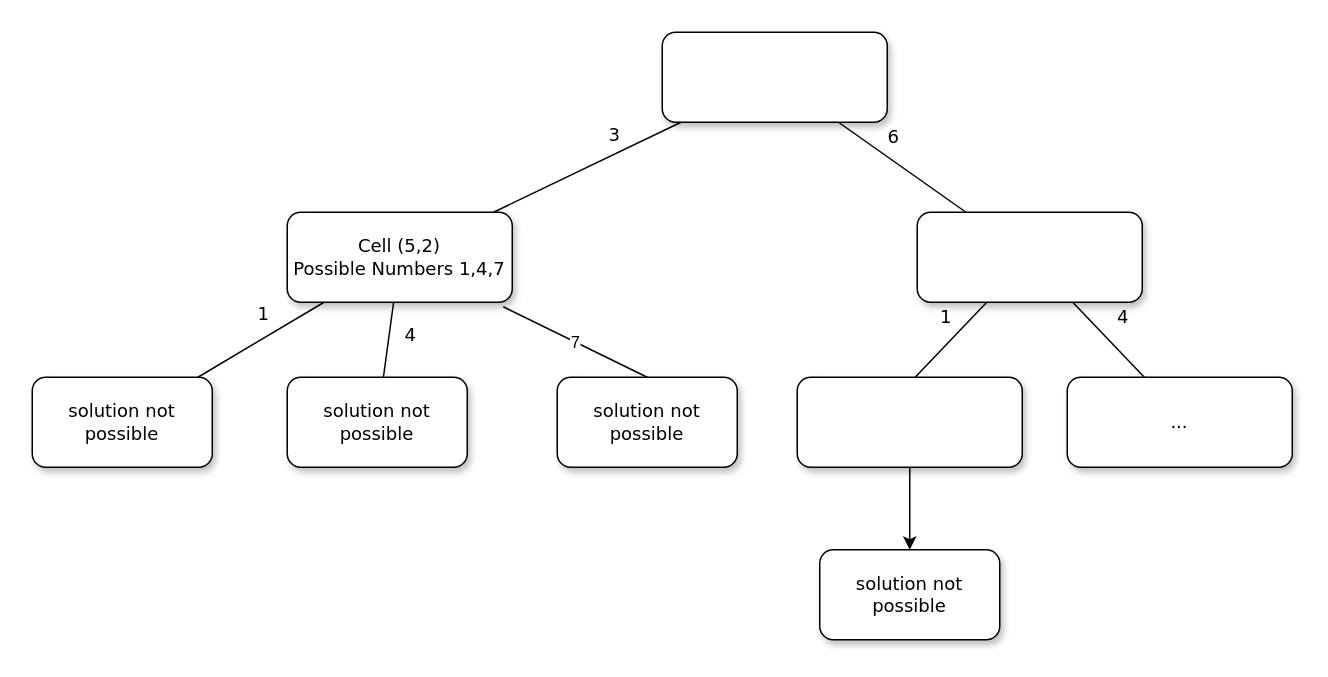
Some shapes in this 1328 by 677 pixel diagram are drawn without their labels. Here are the shapes that lost their labels. From the top down, the centre of each, then its label:
the point at 775,79: Cell (1,2) Possible Numbers 3,6
the point at 1030,259: Cell (7,8) Possible Numbers 1,4
the point at 910,424: Cell (8,8) Possible Numbers 9
